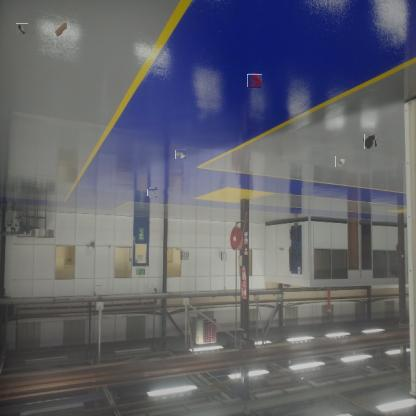dirty: (54, 20, 70, 38), (16, 23, 28, 34), (335, 155, 346, 167), (175, 149, 186, 159), (148, 188, 158, 197)
liquid: (247, 73, 262, 88), (363, 135, 377, 148)
